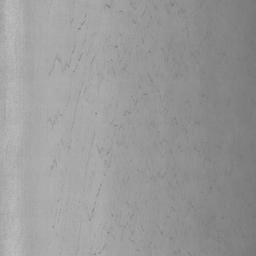Silk spot: (62, 58, 71, 72)
